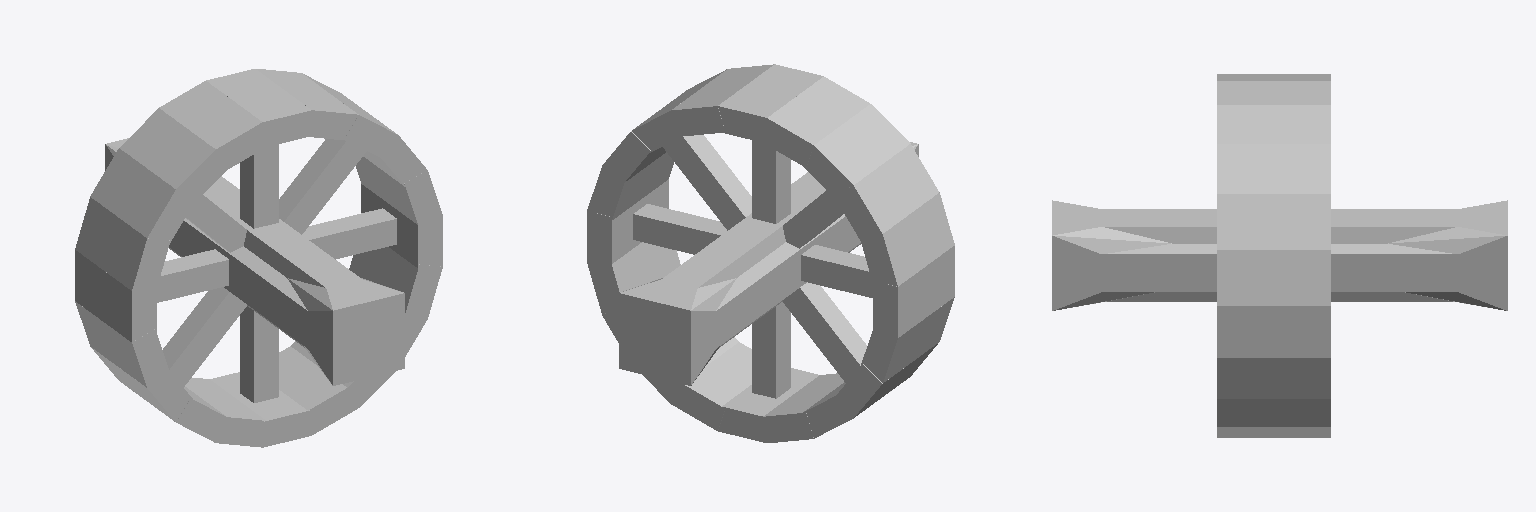
File: axle_flywheel.obj
The picture shows the model from 3 angles: view 1: azimuth 30°, elevation 25°; view 2: azimuth 150°, elevation 25°; view 3: azimuth 270°, elevation 25°; orthographic projection.
Parts seen in each view (by area): view 1: fly_wheel, Cube; view 2: fly_wheel, Cube; view 3: fly_wheel, Cube.
Boxes of the visible parts, box(x1,y1,x2,y2) form: fly_wheel: box(75, 69, 442, 447); Cube: box(105, 138, 404, 385); fly_wheel: box(587, 64, 954, 442); Cube: box(619, 142, 918, 385); fly_wheel: box(1217, 74, 1330, 437); Cube: box(1052, 200, 1507, 310).
Size of the model in its own units: 0.7876 by 0.7876 by 0.9992.